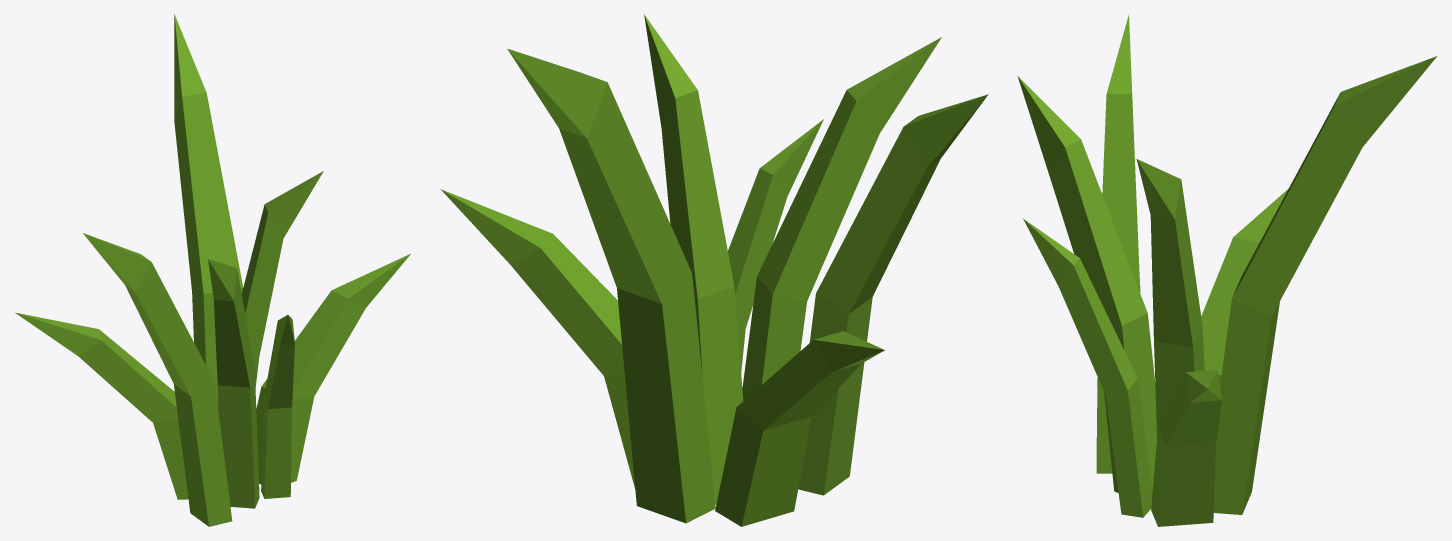
Rendered from SM_Grass_03.fbx.
3 renders of one model, left to right at view 1: azimuth 30°, elevation 25°; view 2: azimuth 150°, elevation 25°; view 3: azimuth 270°, elevation 25°, orthographic. The views are drawn at different scales.
Visible parts, largest first — view 1: SM_Grass_03; view 2: SM_Grass_03; view 3: SM_Grass_03.
Part boxes in pixels (<box>): SM_Grass_03: <box>15,14,410,526</box>; SM_Grass_03: <box>440,14,988,526</box>; SM_Grass_03: <box>1017,15,1436,526</box>.
Size of the model in its own units: 50.22 by 51.03 by 41.64.
1 material, 1 textured.
